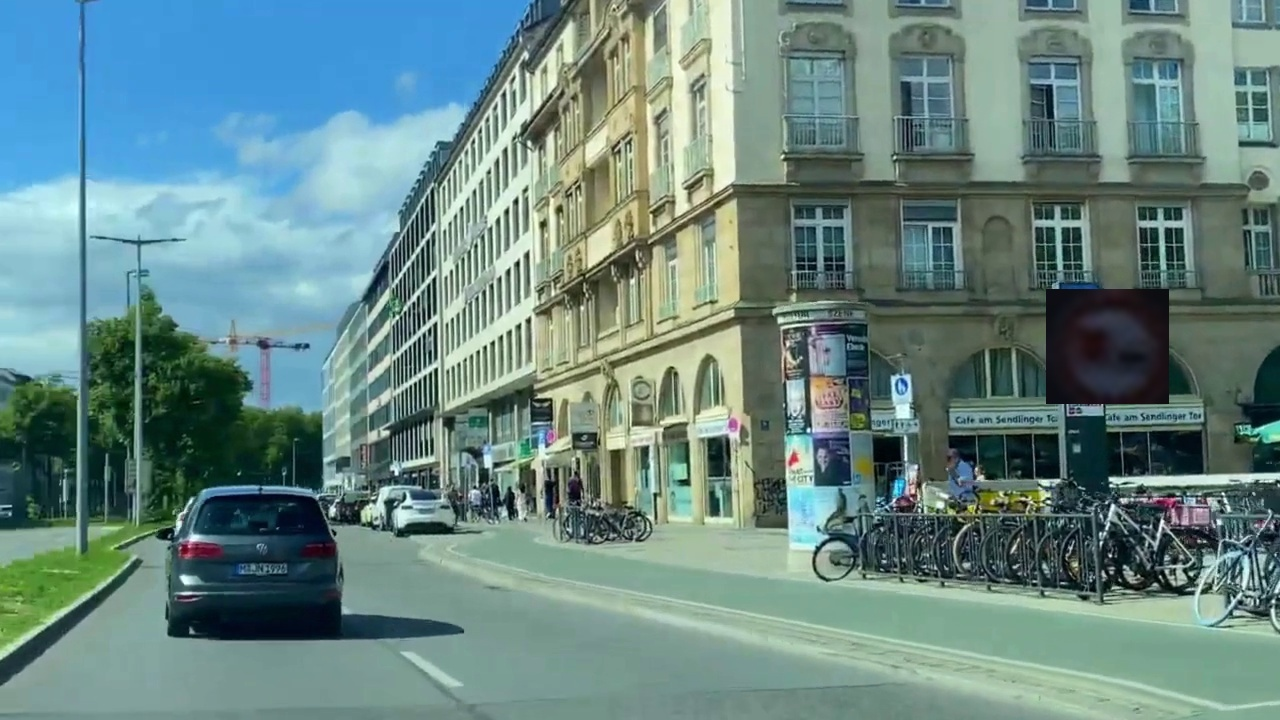No pass >3.5t: (1046, 289, 1169, 404)
